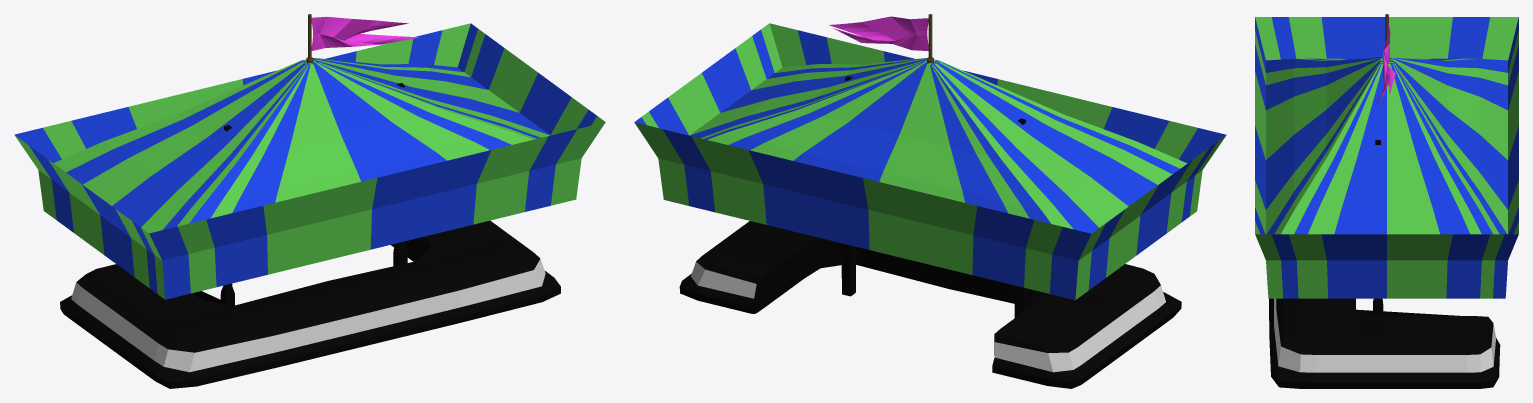
Rendered from tienda3.glb.
3 renders of one model, left to right at view 1: azimuth 30°, elevation 25°; view 2: azimuth 150°, elevation 25°; view 3: azimuth 270°, elevation 25°, orthographic. The views are drawn at different scales.
Parts seen in each view (by area): view 1: Cube, Cube.001, Plane; view 2: Cube, Cube.001, Plane, Cube.002; view 3: Cube, Cube.001, Plane.
Boxes of the visible parts, box(x1,y1,x2,y2) form: Cube: box(14, 23, 605, 299); Cube.001: box(60, 220, 560, 388); Plane: box(311, 16, 419, 50); Cube: box(634, 23, 1226, 300); Cube.001: box(679, 221, 1181, 388); Plane: box(829, 16, 928, 50); Cube.002: box(841, 76, 856, 296); Cube: box(1255, 17, 1518, 298); Cube.001: box(1269, 298, 1500, 388); Plane: box(1375, 20, 1395, 105).
Bounding box in the file's own units: 20.72 × 13.13 × 10.61.
